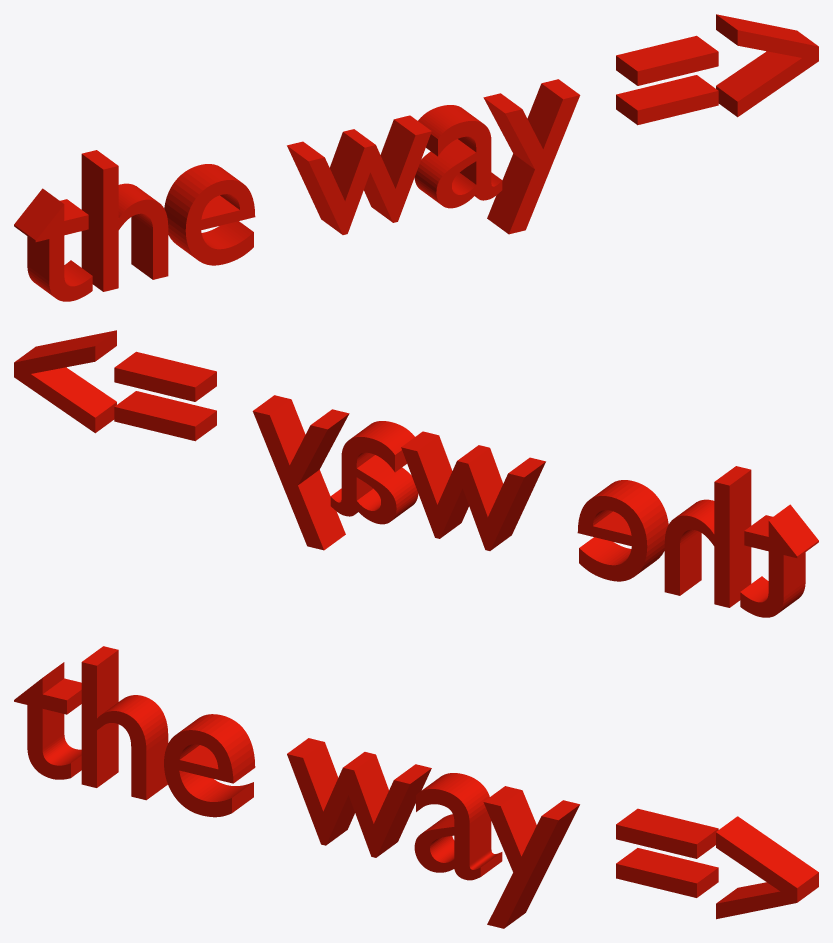
File: theway.fbx
The picture shows the model from 3 angles, top to bottom: view 1: azimuth 30°, elevation 25°; view 2: azimuth 150°, elevation 25°; view 3: azimuth 330°, elevation 25°; orthographic projection.
Parts seen in each view (by area): view 1: Text; view 2: Text; view 3: Text.
Part boxes in pixels (<box>): Text: <box>14,14,818,301</box>; Text: <box>14,330,818,617</box>; Text: <box>14,646,818,928</box>.
Size of the model in its own units: 457 by 91.2 by 22.
